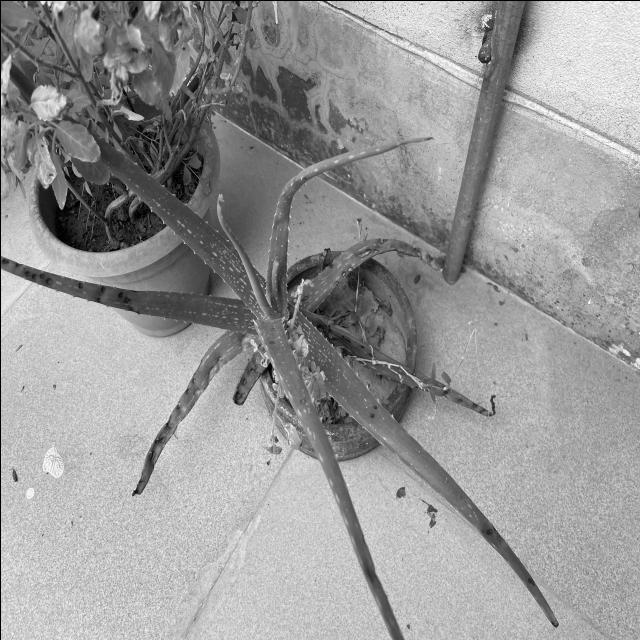Breeding Place: (8, 63, 259, 347), (252, 223, 428, 478)
